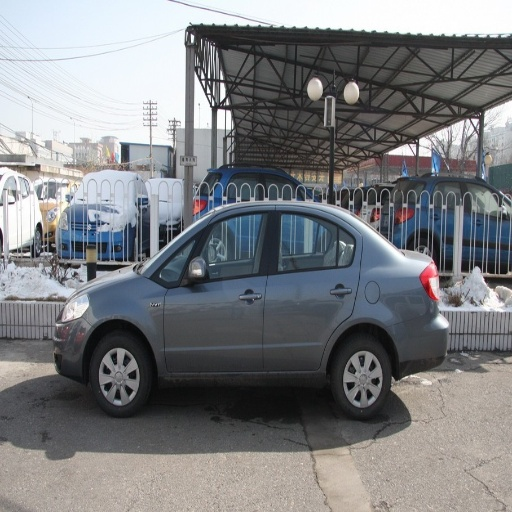back_left_door: (264, 208, 358, 370)
front_left_door: (163, 209, 272, 372)
